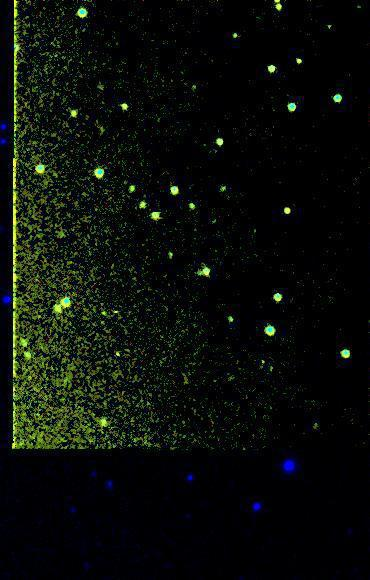star: (38, 299, 68, 329)
